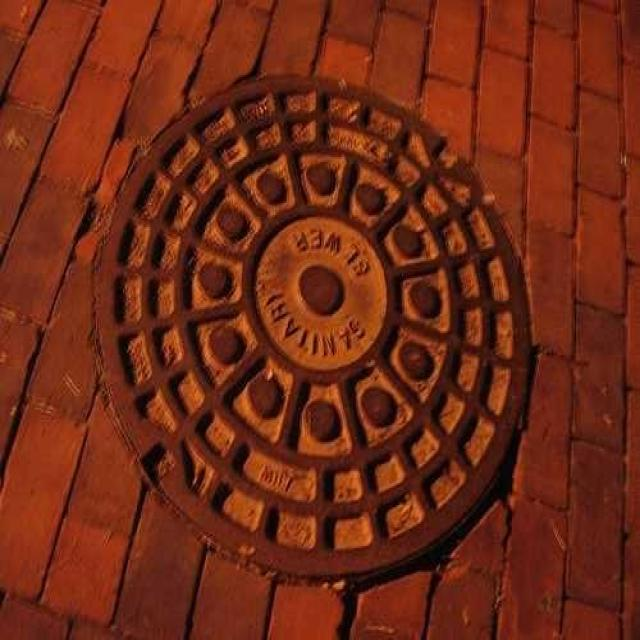manhole: (92, 77, 536, 582)
